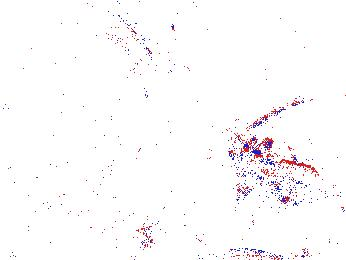X-ray fish: (140, 231, 213, 260)
glassfish: (51, 1, 170, 90)
siberian prawn: (219, 127, 346, 201), (39, 190, 179, 241)
